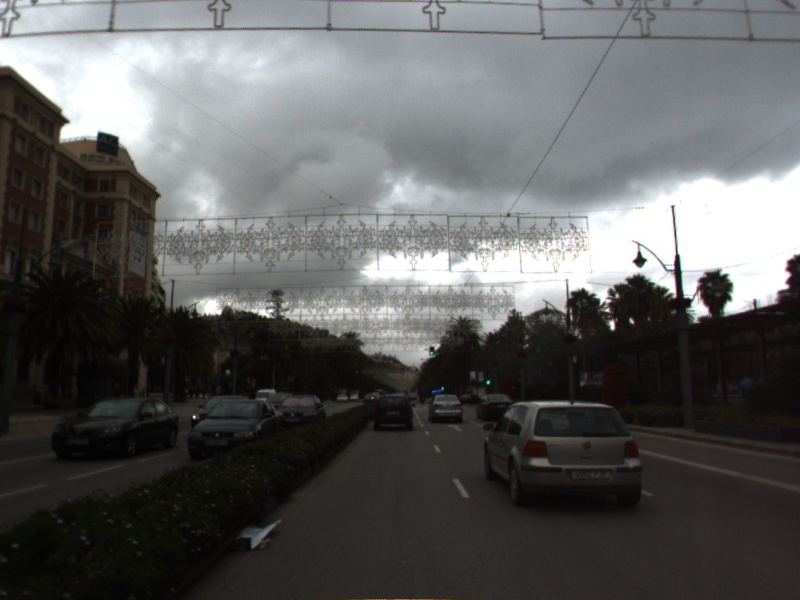STRAIGHT: (443, 422, 465, 433)
